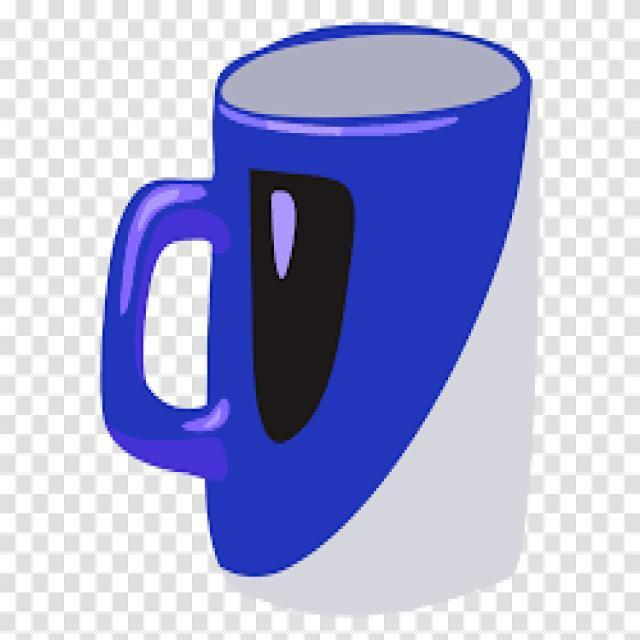taza: (66, 16, 588, 616)
